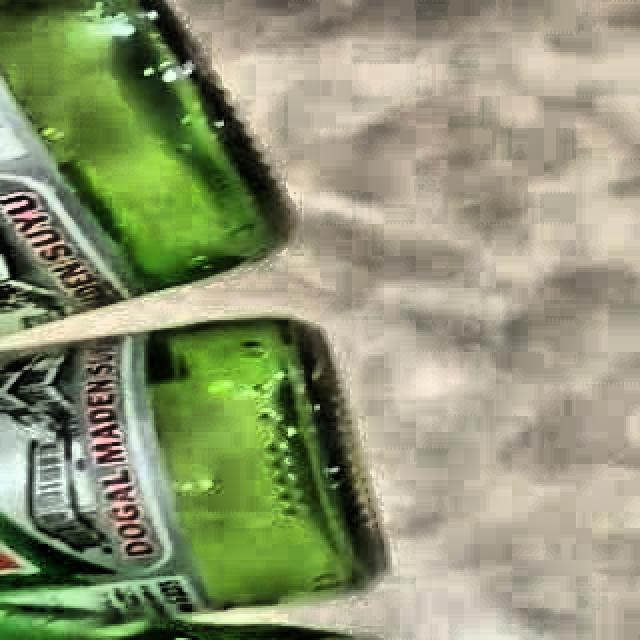glass: (0, 318, 384, 640)
